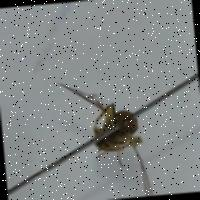Oriental-fruit-fly: (52, 65, 168, 200)
